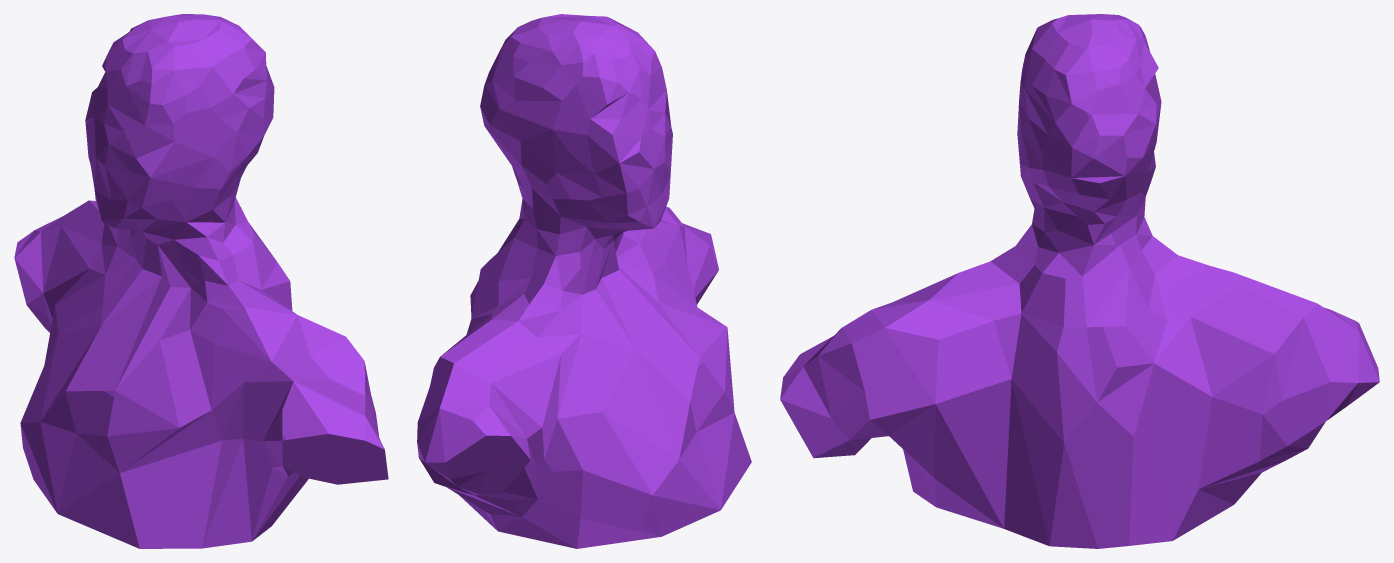
The model's file is Statue.006_chunks.fbx.
3 renders of one model, left to right at view 1: azimuth 30°, elevation 25°; view 2: azimuth 150°, elevation 25°; view 3: azimuth 270°, elevation 25°, orthographic. The views are drawn at different scales.
Parts seen in each view (by area): view 1: Statue.006_0, Statue.006_3, Statue.006_1, Statue.006_6, Statue.006_4, Statue.006_2; view 2: Statue.006_2, Statue.006_4, Statue.006_6, Statue.006_0, Statue.006_3, Statue.006_1, Statue.006_5; view 3: Statue.006_1, Statue.006_5, Statue.006_2, Statue.006_3, Statue.006_0, Statue.006_4.
Boxes of the visible parts, bbox=[...] form: Statue.006_0: bbox=[85, 16, 257, 353]; Statue.006_3: bbox=[25, 370, 329, 548]; Statue.006_1: bbox=[213, 42, 388, 484]; Statue.006_6: bbox=[80, 231, 300, 455]; Statue.006_4: bbox=[15, 238, 128, 453]; Statue.006_2: bbox=[14, 14, 249, 260]; Statue.006_2: bbox=[417, 17, 621, 472]; Statue.006_4: bbox=[418, 293, 675, 548]; Statue.006_6: bbox=[562, 241, 727, 381]; Statue.006_0: bbox=[532, 14, 672, 248]; Statue.006_3: bbox=[483, 295, 751, 544]; Statue.006_1: bbox=[470, 166, 718, 313]; Statue.006_5: bbox=[459, 288, 507, 517]; Statue.006_1: bbox=[780, 81, 1149, 469]; Statue.006_5: bbox=[976, 308, 1269, 548]; Statue.006_2: bbox=[1068, 18, 1379, 404]; Statue.006_3: bbox=[903, 449, 1217, 546]; Statue.006_0: bbox=[1016, 14, 1128, 244]; Statue.006_4: bbox=[1216, 377, 1367, 513].
Bounding box in the file's own units: 183 × 342 × 389.
